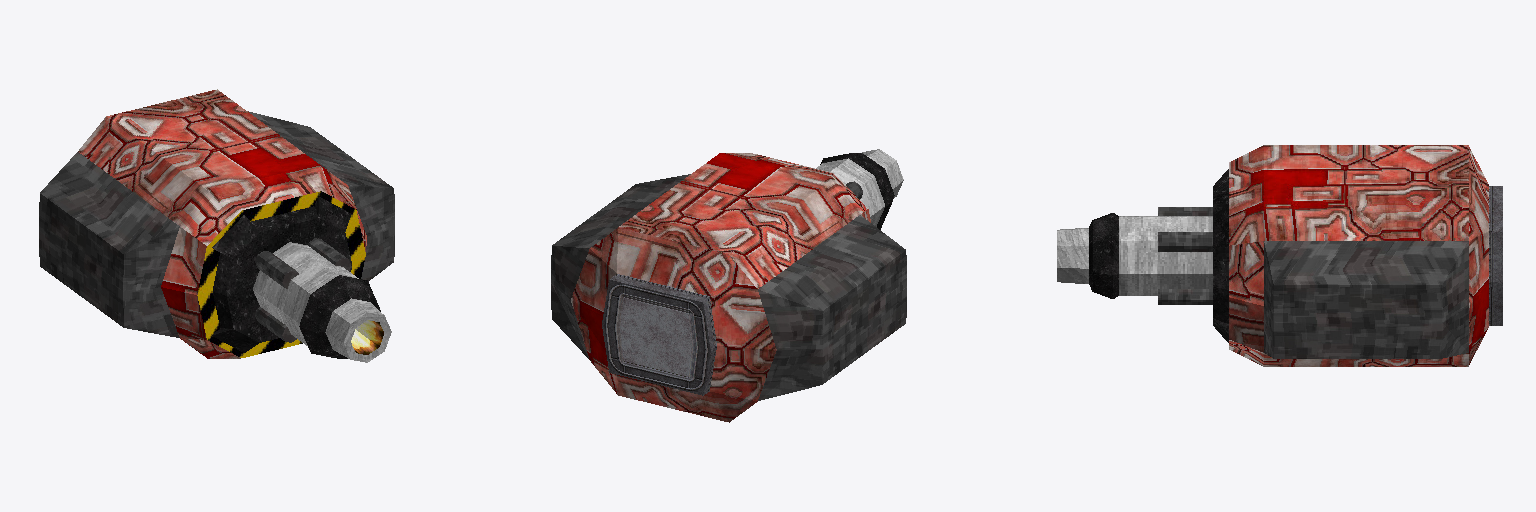
3 renders of one model, left to right at view 1: azimuth 30°, elevation 25°; view 2: azimuth 150°, elevation 25°; view 3: azimuth 270°, elevation 25°, orthographic.
Visible parts, largest first — view 1: gunIon_Cylinder.012; view 2: gunIon_Cylinder.012; view 3: gunIon_Cylinder.012.
Part boxes in pixels (left/top/right/bottom): gunIon_Cylinder.012: left=39, top=89, right=394, bottom=362; gunIon_Cylinder.012: left=551, top=149, right=906, bottom=422; gunIon_Cylinder.012: left=1057, top=145, right=1502, bottom=366.
Size of the model in its own units: 0.3015 by 0.1781 by 0.4286.
2 materials, 1 textured.